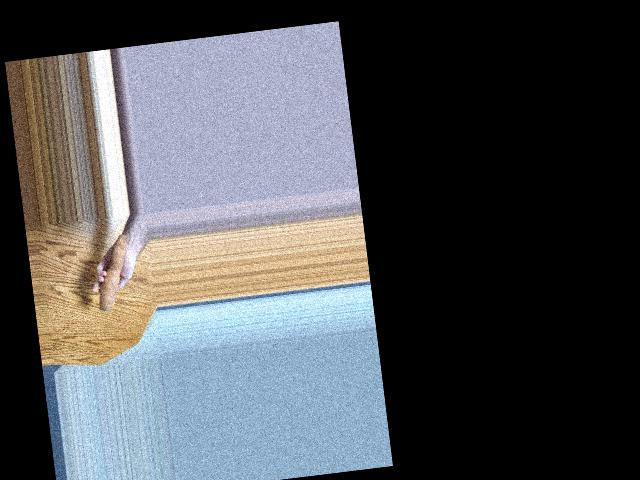sweet_potato: (89, 231, 137, 312)
